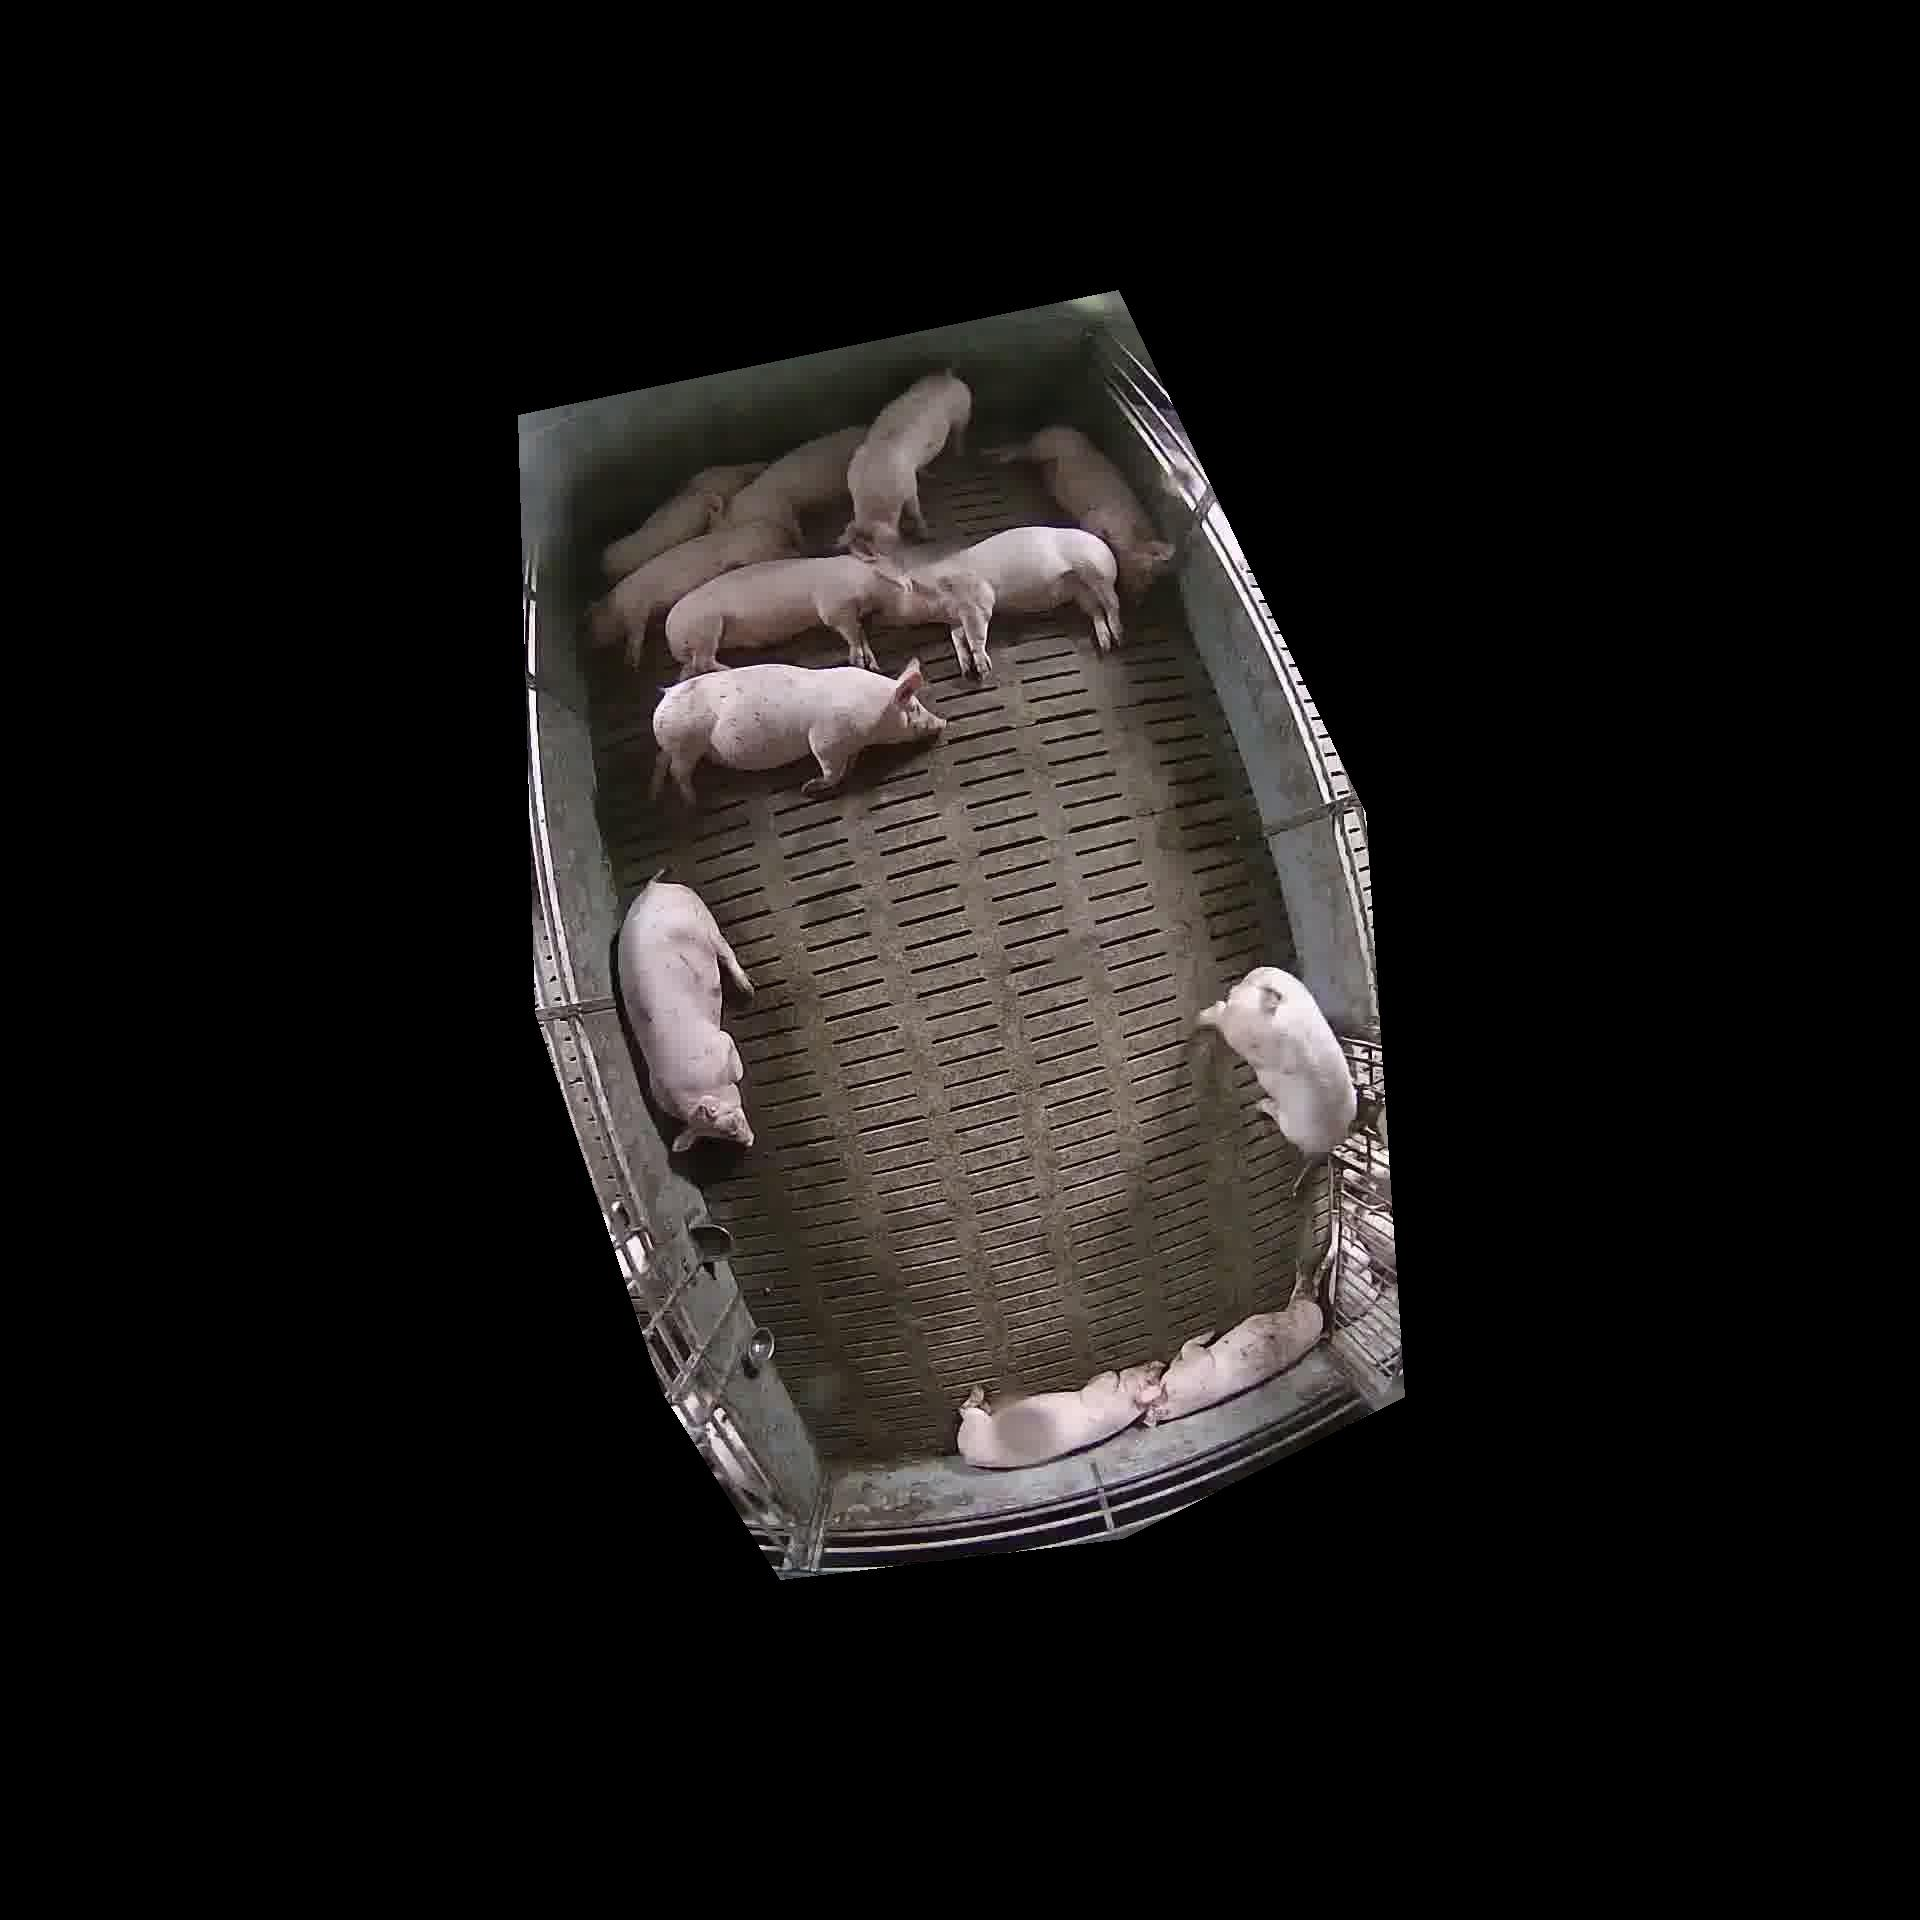pig: (652, 659, 944, 804), (617, 877, 753, 1152), (877, 526, 1122, 675), (986, 425, 1173, 600), (1197, 967, 1356, 1162), (587, 520, 796, 665), (665, 556, 907, 677), (844, 369, 971, 556), (1146, 1298, 1322, 1422), (956, 1363, 1162, 1466), (601, 462, 765, 582), (726, 425, 867, 531)
